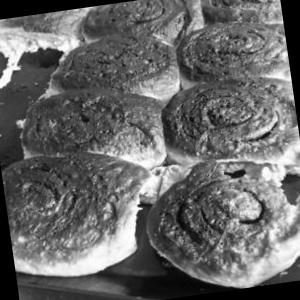bread: (143, 151, 300, 292), (2, 146, 135, 282), (169, 67, 300, 175), (32, 79, 166, 182), (55, 14, 184, 106), (183, 13, 285, 86)
